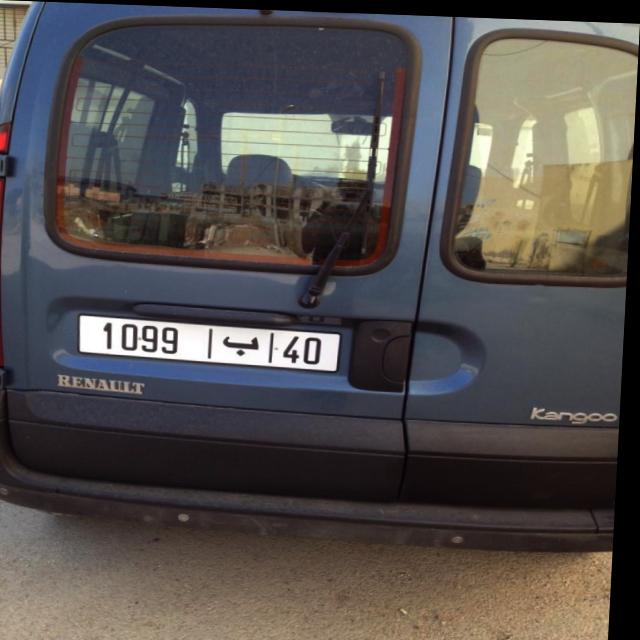License-Plate: (82, 314, 344, 368)
